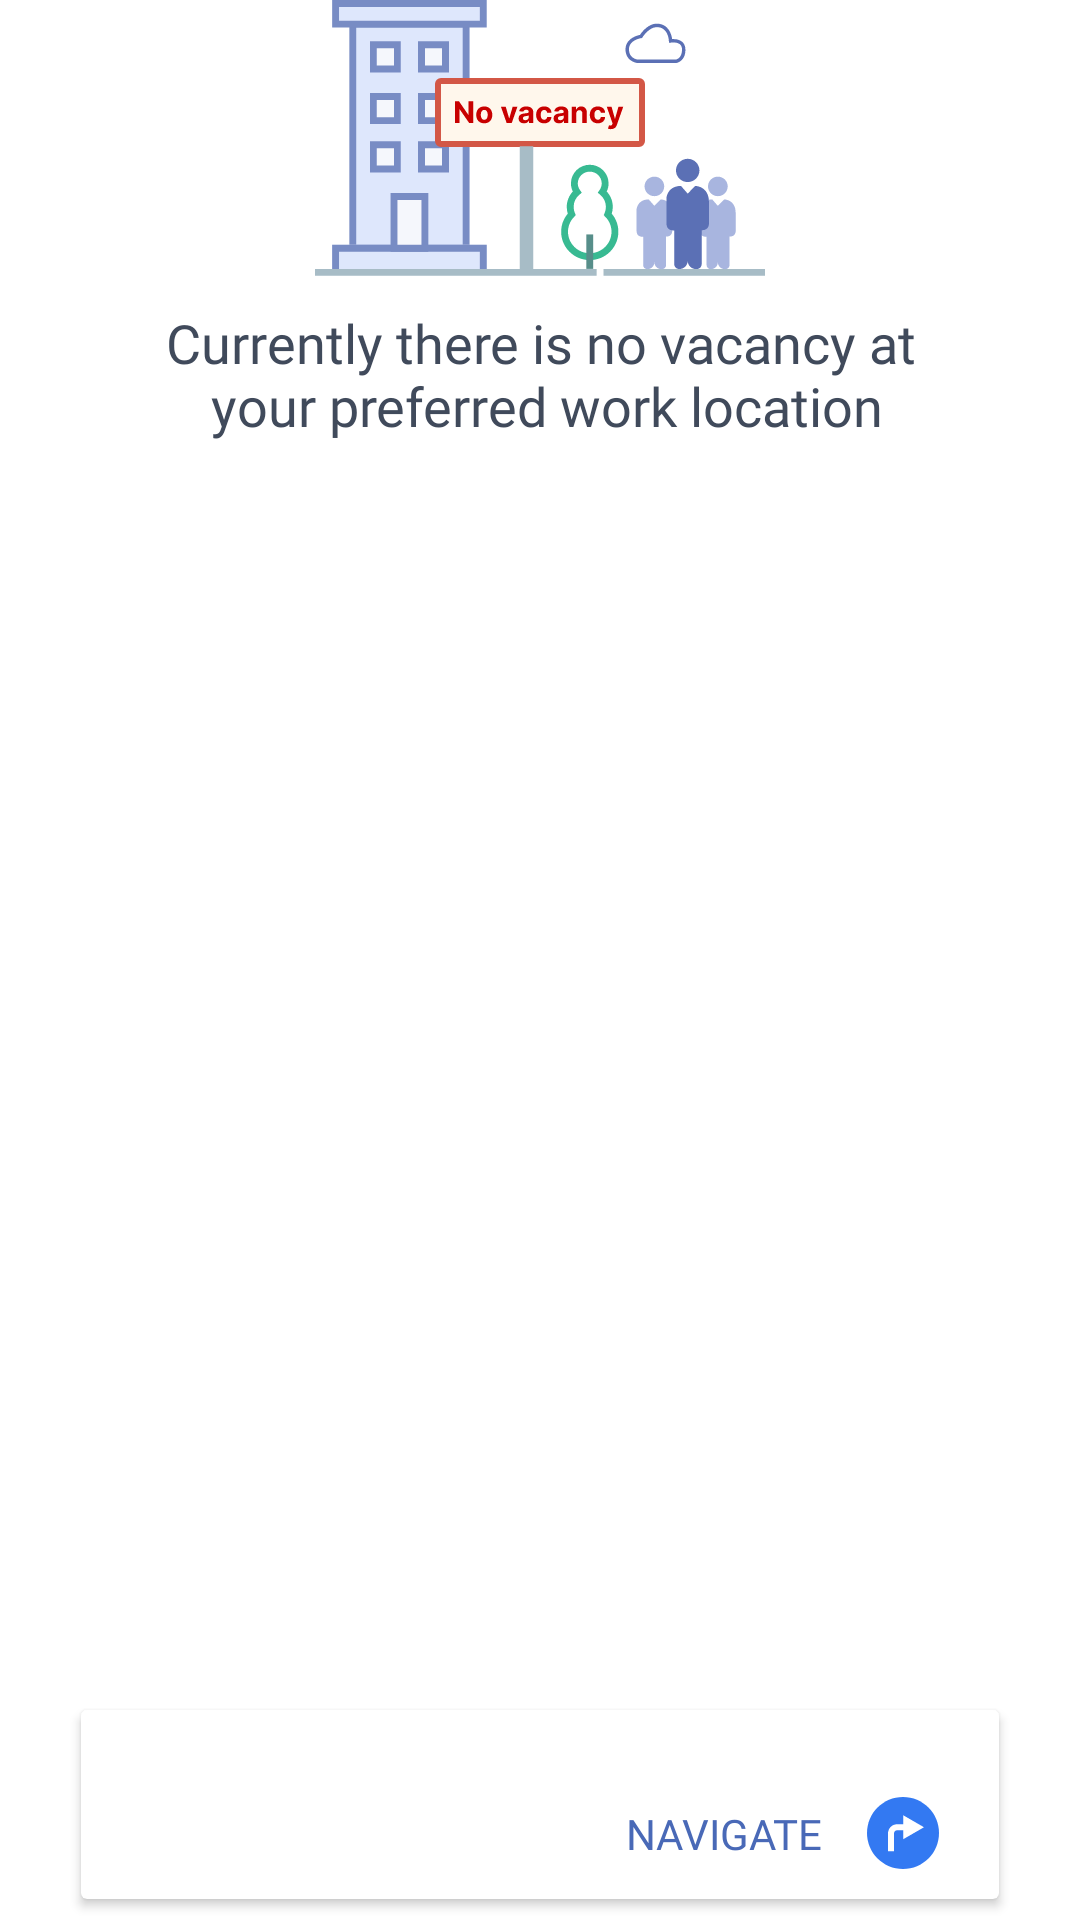

Icons on this 1080 x 1920 Android screen, each with its box as [x1=x1, y1=y1, x2=x2, y2=y2]:
direction: [x1=867, y1=1797, x2=939, y2=1869]
